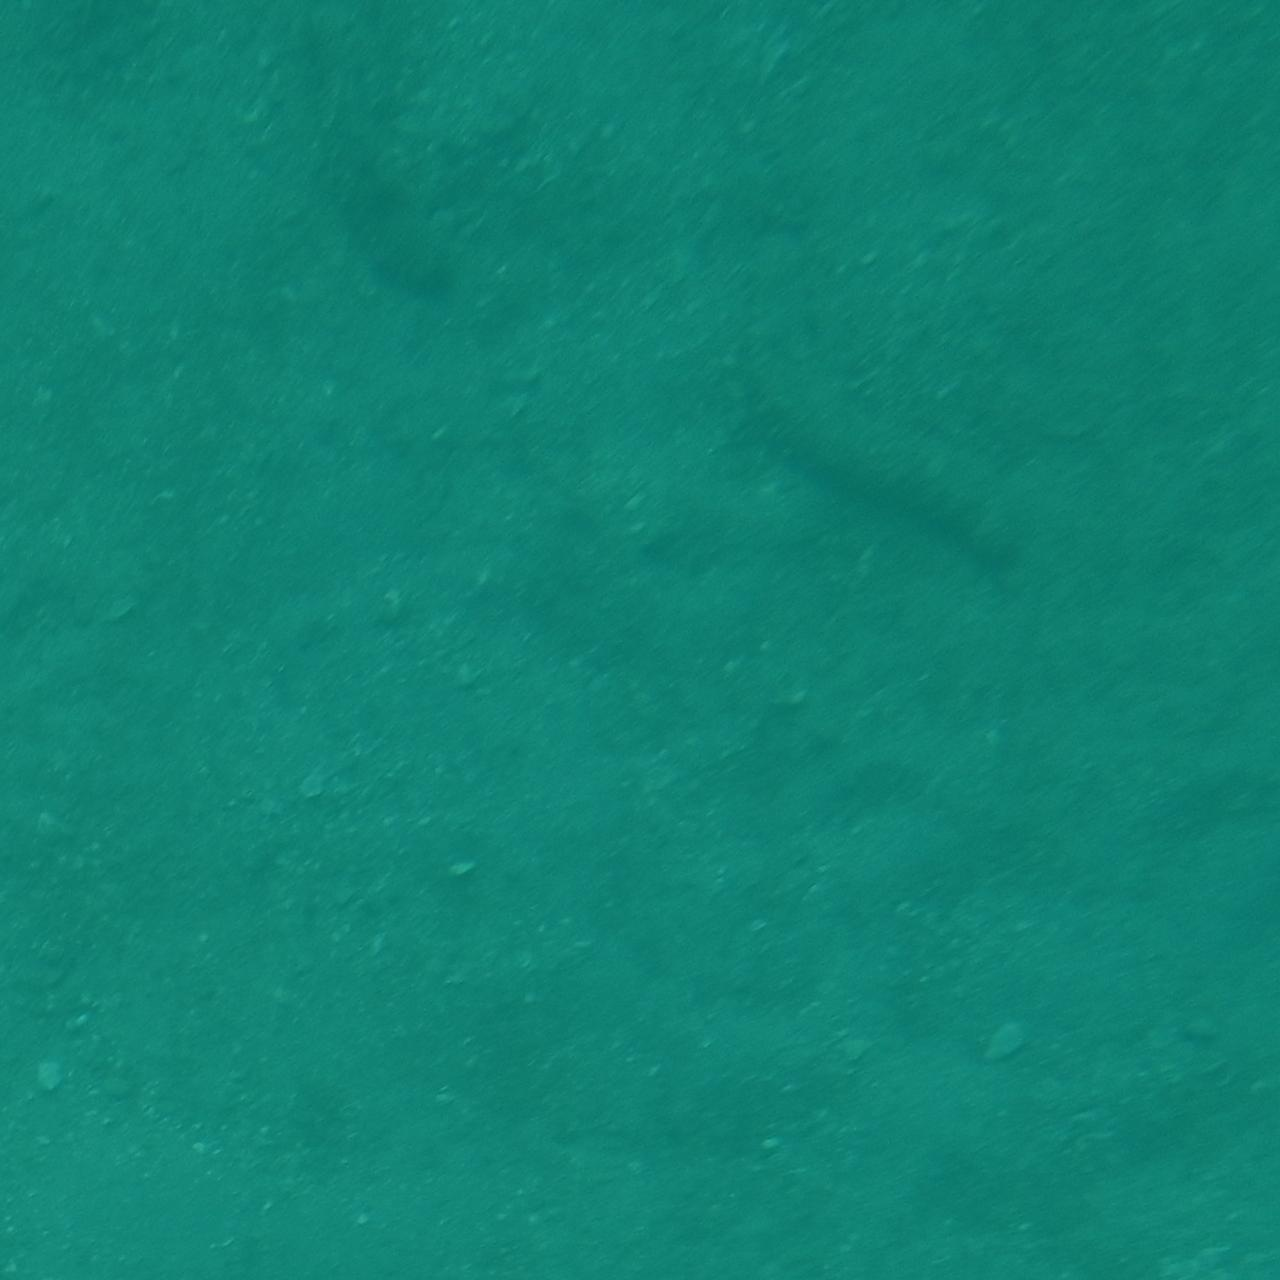Holothuria tubulosa: (755, 302, 1051, 578), (291, 8, 465, 300)
